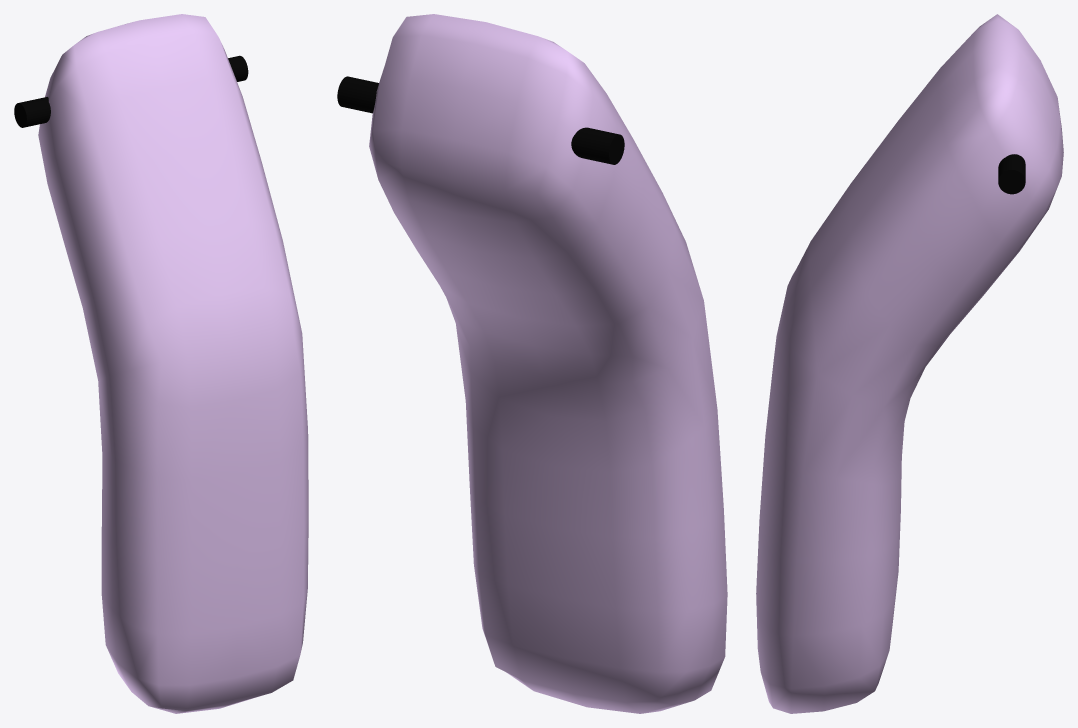
The model's file is final_robot_joint4.dae.
3 views of the same model, side by side, from view 1: azimuth 30°, elevation 25°; view 2: azimuth 150°, elevation 25°; view 3: azimuth 270°, elevation 25° (orthographic). The views are drawn at different scales.
Visible parts, largest first — view 1: 4; view 2: 4; view 3: 4.
Boxes of the visible parts, left/top/right/bottom form: 4: left=14, top=14, right=308, bottom=713; 4: left=337, top=14, right=727, bottom=713; 4: left=756, top=14, right=1063, bottom=713.
Size of the model in its own units: 0.4511 by 0.5018 by 1.19.
